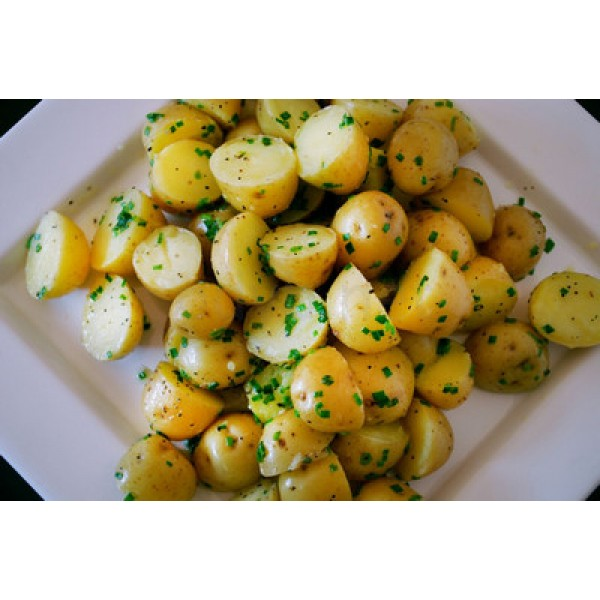boiled potatoes: (326, 268, 407, 356), (288, 349, 365, 432), (97, 190, 168, 277), (147, 367, 223, 446), (328, 189, 408, 264), (295, 108, 367, 191), (526, 266, 598, 348), (456, 330, 551, 391), (404, 338, 483, 411), (210, 148, 299, 212), (214, 215, 280, 301), (404, 246, 465, 337), (383, 122, 462, 191), (244, 292, 330, 353), (116, 437, 198, 499), (167, 330, 248, 391), (28, 213, 84, 301), (256, 406, 334, 467), (82, 283, 145, 357), (135, 232, 203, 296), (265, 223, 337, 278), (202, 415, 260, 483), (357, 349, 412, 419), (440, 174, 502, 236), (155, 144, 216, 201), (347, 429, 409, 480), (411, 405, 450, 482), (178, 284, 233, 336)
